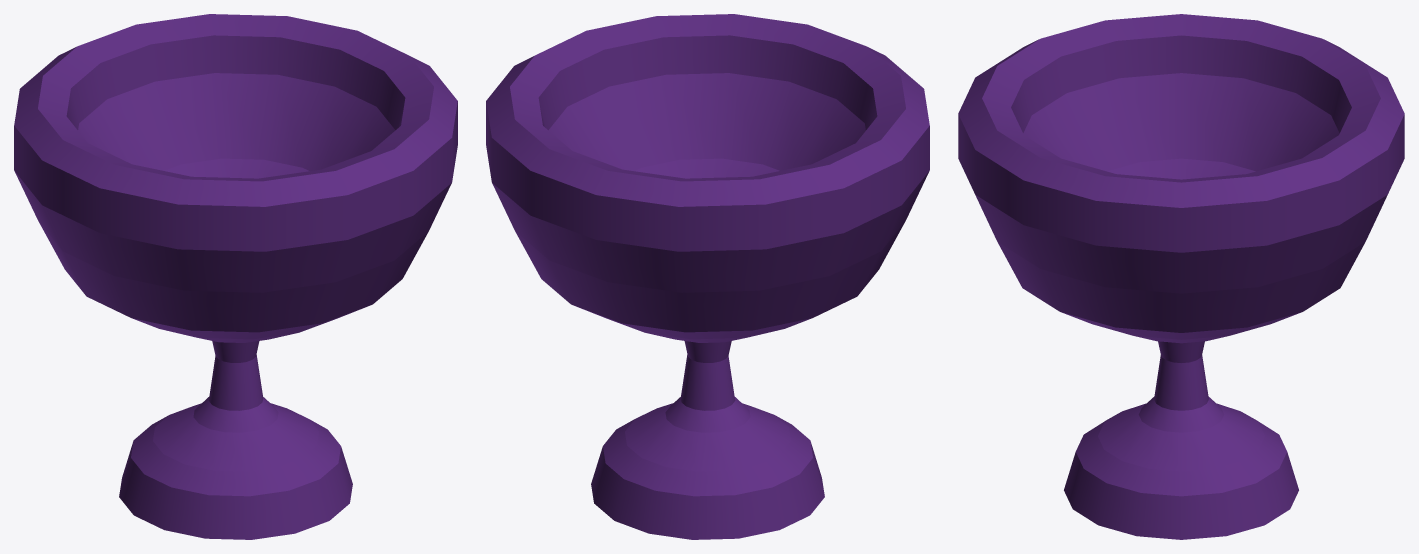
The model's file is fire.FBX.
The picture shows the model from 3 angles, left to right: view 1: azimuth 30°, elevation 25°; view 2: azimuth 150°, elevation 25°; view 3: azimuth 270°, elevation 25°; orthographic projection.
Parts seen in each view (by area): view 1: Line022; view 2: Line022; view 3: Line022.
Part boxes in pixels (left/top/right/bottom): Line022: left=14, top=14, right=457, bottom=539; Line022: left=486, top=14, right=929, bottom=539; Line022: left=958, top=14, right=1404, bottom=539.
Bounding box in the file's own units: 31.52 × 30.53 × 31.52.
